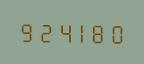eight: (90, 20, 107, 44)
four: (54, 19, 71, 43)
nine: (17, 19, 34, 43)
one: (72, 20, 89, 44)
two: (35, 19, 52, 43)
zero: (108, 20, 125, 44)
